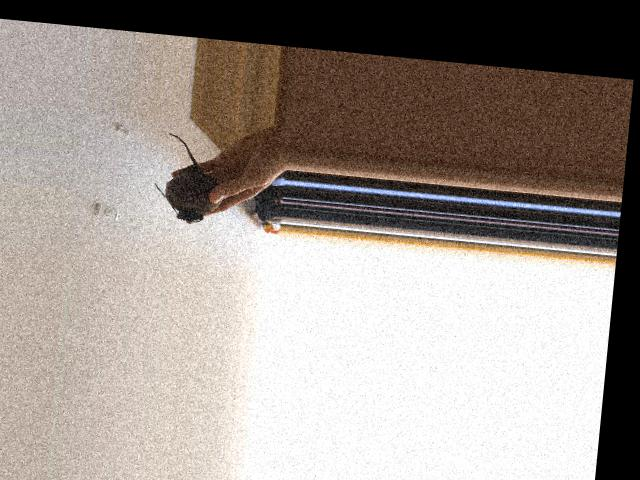beet: (150, 131, 227, 226)
